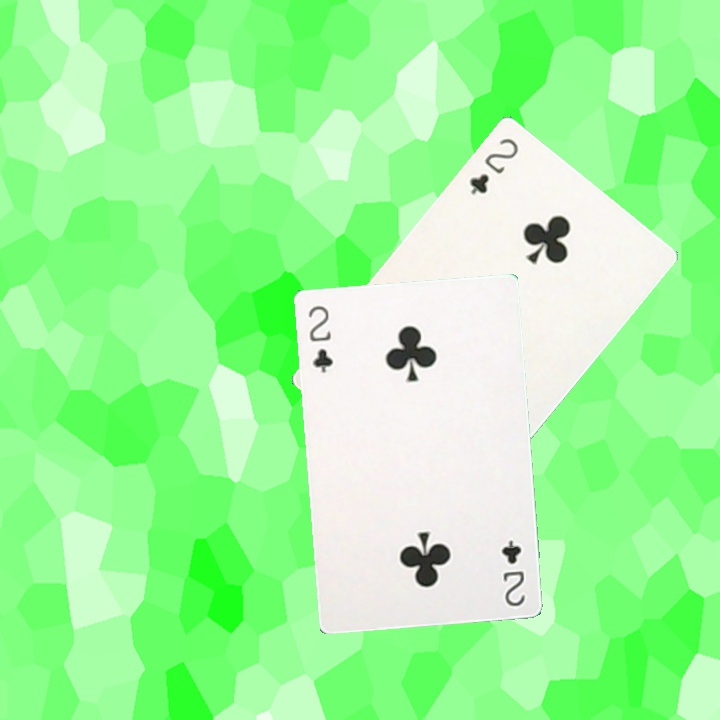2c: (465, 133, 522, 197), (304, 301, 335, 376), (497, 535, 528, 609)
